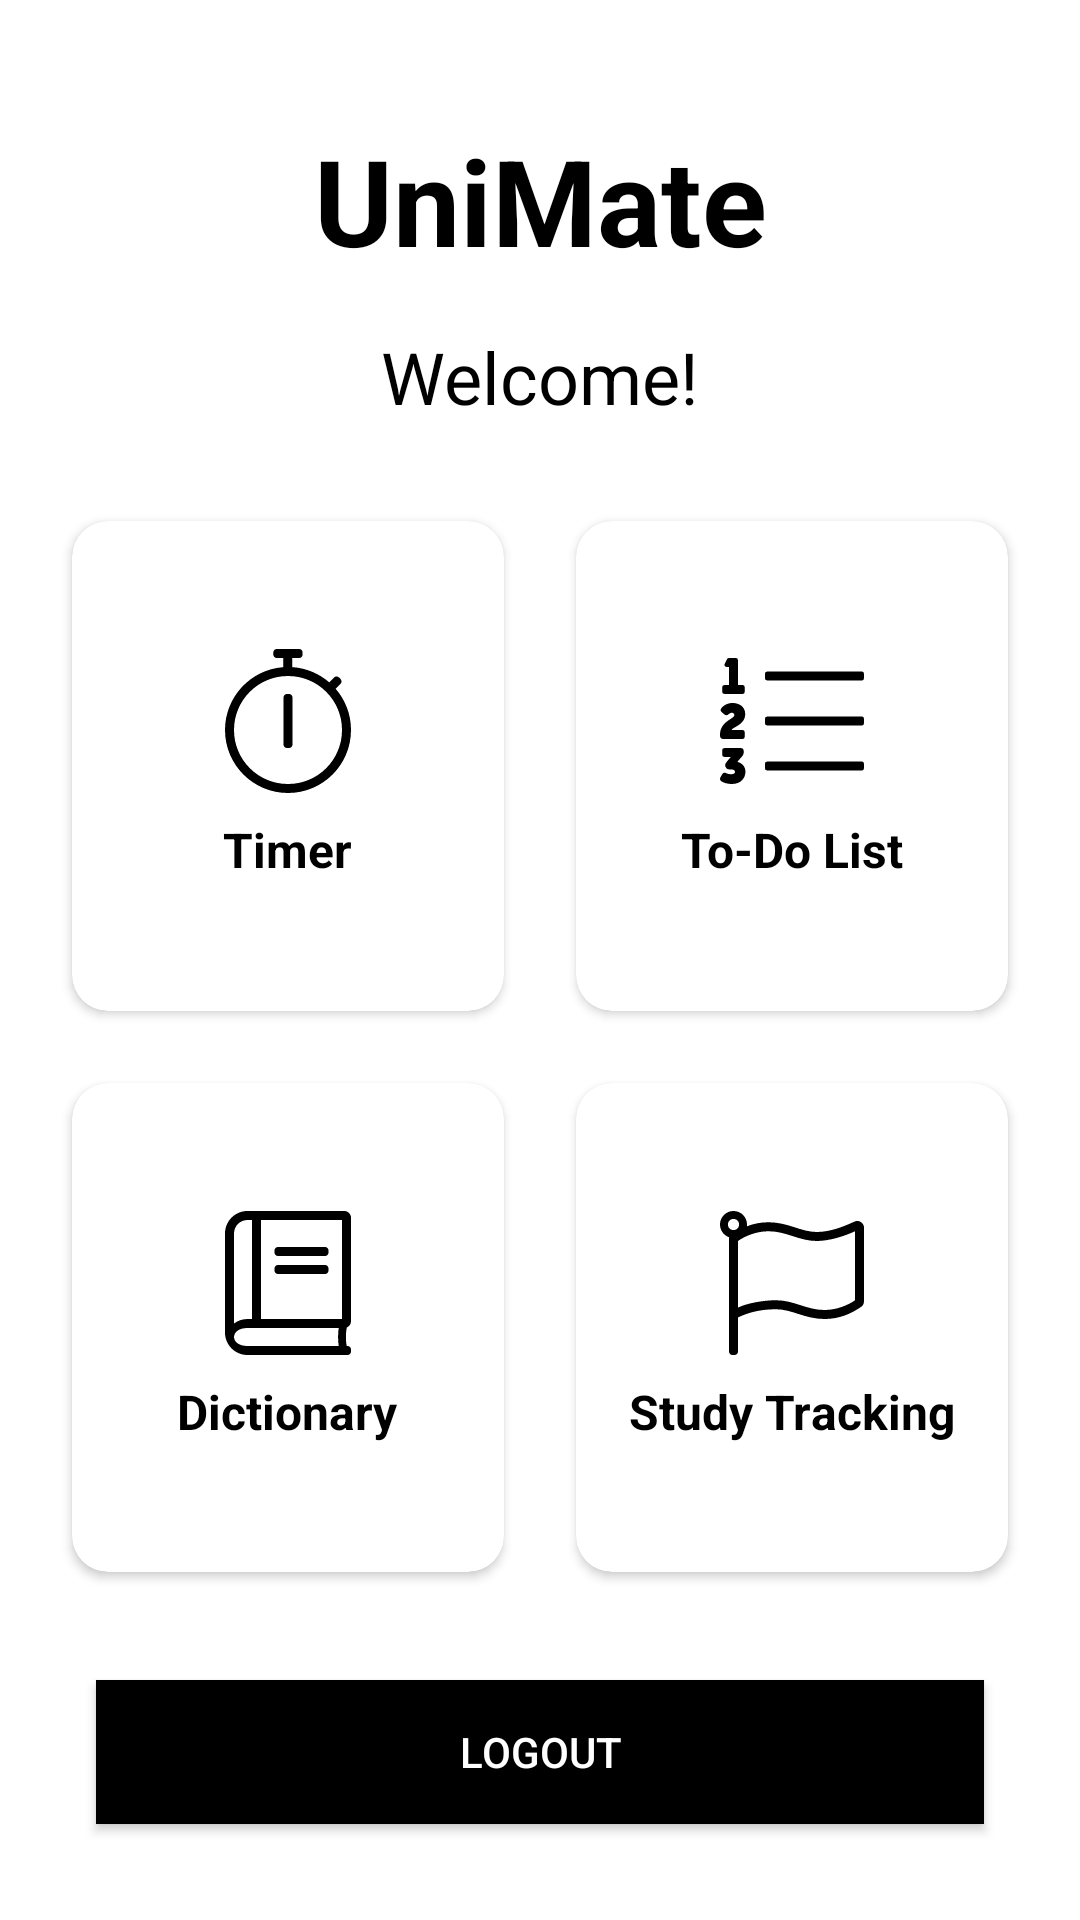

Screen size 1080px×1920px. Icon name, then its box in pixels as (x1, y1, x2, y2):
book: (225, 1211, 351, 1355)
flag: (720, 1211, 864, 1355)
list ol: (720, 658, 864, 784)
stopwatch: (225, 649, 351, 793)
